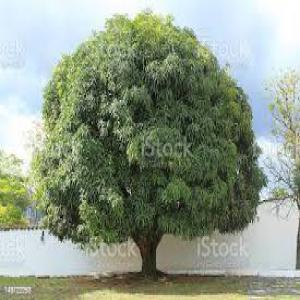Tree: (32, 8, 263, 277)
